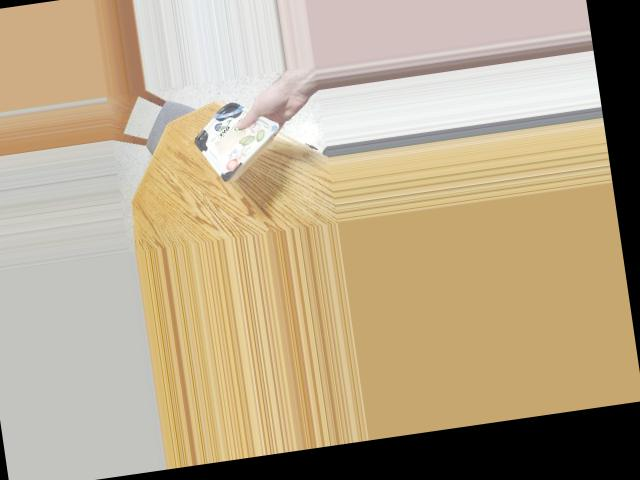cheese: (190, 106, 274, 180)
